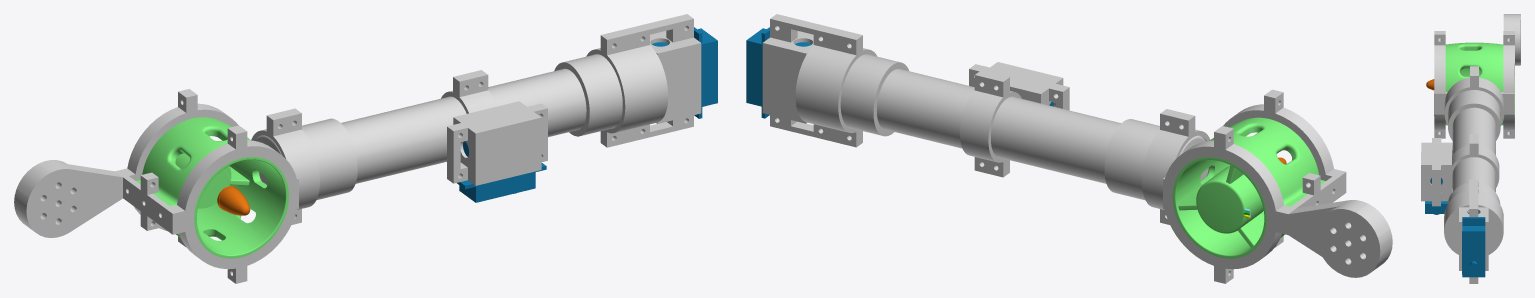
3 renders of one model, left to right at view 1: azimuth 30°, elevation 25°; view 2: azimuth 150°, elevation 25°; view 3: azimuth 270°, elevation 25°, orthographic. The views are drawn at different scales.
Visible parts, largest first — view 1: node13, node1, node6, node12, node11, node7, node8, node9, node10, node4; view 2: node13, node6, node1, node12, node11, node7, node8, node10; view 3: node13, node12, node11, node6, node1, node10, node7, node8, node9, node4.
Boxes of the visible parts, bbox=[...] form: node13: bbox=[14, 89, 319, 283]; node1: bbox=[135, 117, 288, 258]; node6: bbox=[341, 68, 586, 183]; node12: bbox=[586, 14, 701, 147]; node11: bbox=[441, 70, 547, 185]; node7: bbox=[256, 118, 357, 200]; node8: bbox=[554, 54, 622, 136]; node9: bbox=[457, 141, 546, 202]; node10: bbox=[652, 27, 717, 118]; node4: bbox=[217, 186, 250, 215]; node13: bbox=[1142, 89, 1392, 283]; node6: bbox=[877, 69, 1120, 183]; node1: bbox=[1172, 117, 1325, 258]; node12: bbox=[762, 14, 877, 147]; node11: bbox=[960, 62, 1069, 177]; node7: bbox=[1104, 119, 1205, 199]; node8: bbox=[840, 54, 908, 136]; node10: bbox=[746, 27, 811, 118]; node13: bbox=[1434, 14, 1520, 138]; node12: bbox=[1444, 179, 1503, 283]; node11: bbox=[1421, 134, 1499, 206]; node6: bbox=[1452, 107, 1495, 192]; node1: bbox=[1445, 42, 1514, 125]; node10: bbox=[1462, 212, 1485, 277]; node7: bbox=[1448, 90, 1500, 140]; node8: bbox=[1447, 182, 1500, 203]; node9: bbox=[1425, 178, 1447, 214]; node4: bbox=[1426, 79, 1434, 90].
Size of the model in its own units: 0.4663 by 0.1 by 0.087.
